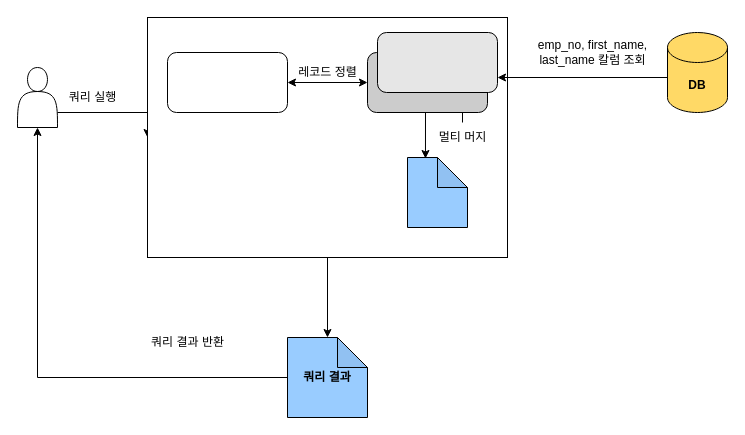
This 745x435 diagram has some shape labels left out. The shapes that lost their labels are listed below. From the top down, each one's centre as x and y in pixels, then its label:
At (437,62): "메모리".
At (437,192): "임시 파일".
